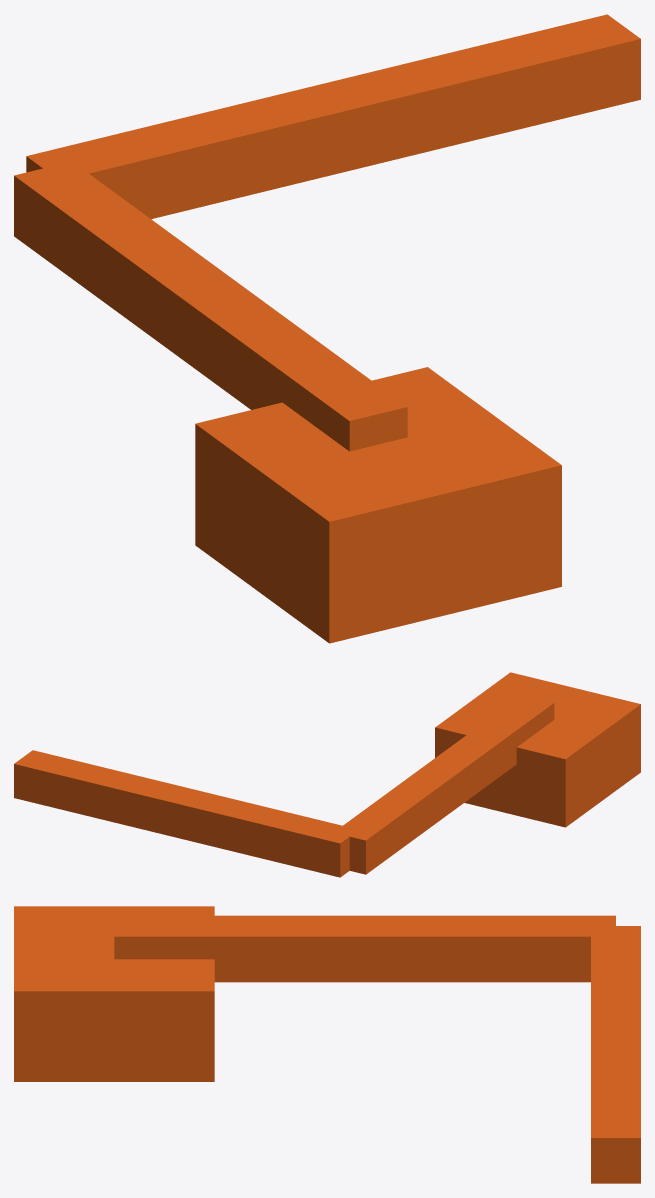
The model's file is arm_flat.dae.
3 renders of one model, top to bottom at view 1: azimuth 30°, elevation 25°; view 2: azimuth 150°, elevation 25°; view 3: azimuth 270°, elevation 25°, orthographic. The views are drawn at different scales.
Visible parts, largest first — view 1: base, link2, link1; view 2: link2, base, link1; view 3: base, link1, link2.
Boxes of the visible parts, x1,y1,x2,y2 form: base: (195,367,561,643); link2: (26,14,640,219); link1: (14,161,407,451); link2: (14,750,357,877); base: (435,672,640,827); link1: (334,695,554,874); base: (14,906,214,1081); link1: (114,915,615,982); link2: (591,926,640,1183).
Bounding box in the file's own units: 1.2 × 1.25 × 0.25.
